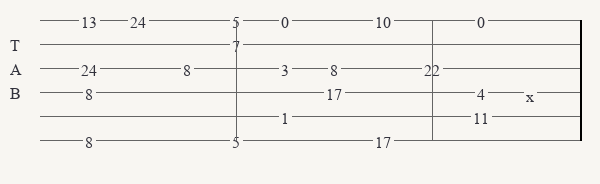0: (281, 13, 293, 28), (477, 13, 489, 28)
1: (281, 109, 293, 124)
10: (375, 13, 395, 28)
11: (473, 109, 493, 124)
13: (81, 13, 101, 28)
17: (326, 85, 346, 100), (375, 133, 395, 148)
22: (424, 61, 444, 76)
24: (81, 61, 101, 76), (130, 13, 150, 28)
3: (281, 61, 293, 76)
4: (477, 85, 489, 100)
5: (232, 133, 244, 148), (232, 13, 244, 28)
7: (232, 37, 244, 52)
8: (85, 133, 97, 148), (85, 85, 97, 100), (183, 61, 195, 76), (330, 61, 342, 76)
x: (526, 87, 538, 98)
